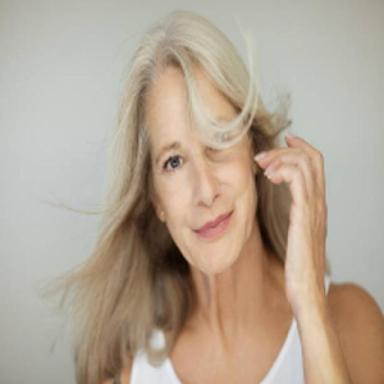normal skin: (146, 67, 384, 384)
